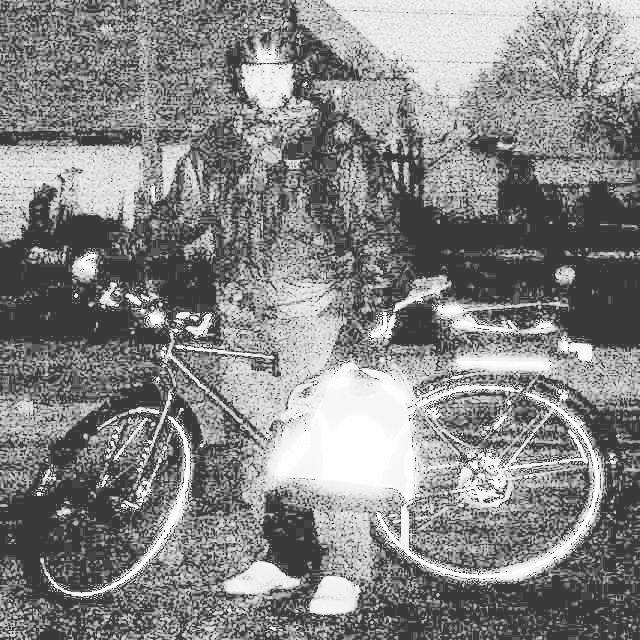Bicycle: (39, 227, 602, 619)
